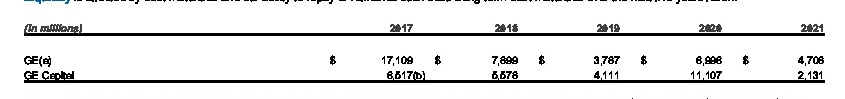table: (0, 0, 845, 99)
